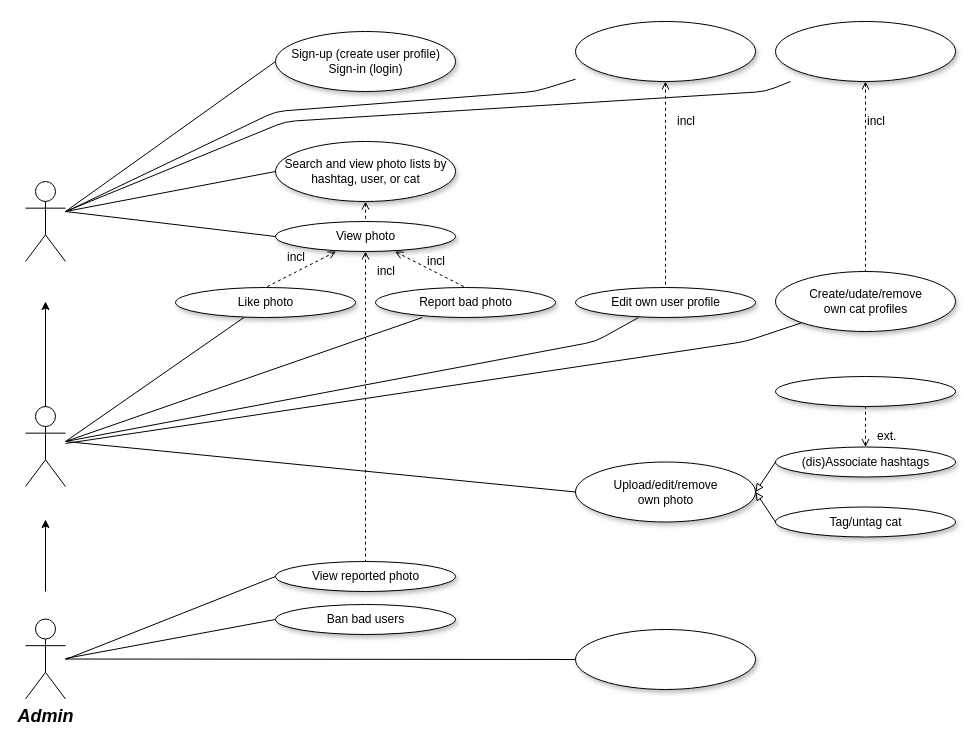
Image size: 979x745. Some labels were removed from this diagram. The centre of each missing label's shape, as x and y in pixels:
Create new hashtags: point (866, 393)
CRUD actions on all data: point (666, 660)
Guest: point (45, 221)
Search and View cat profiles: point (866, 52)
Search and View user profiles: point (666, 52)
User: point (45, 446)
